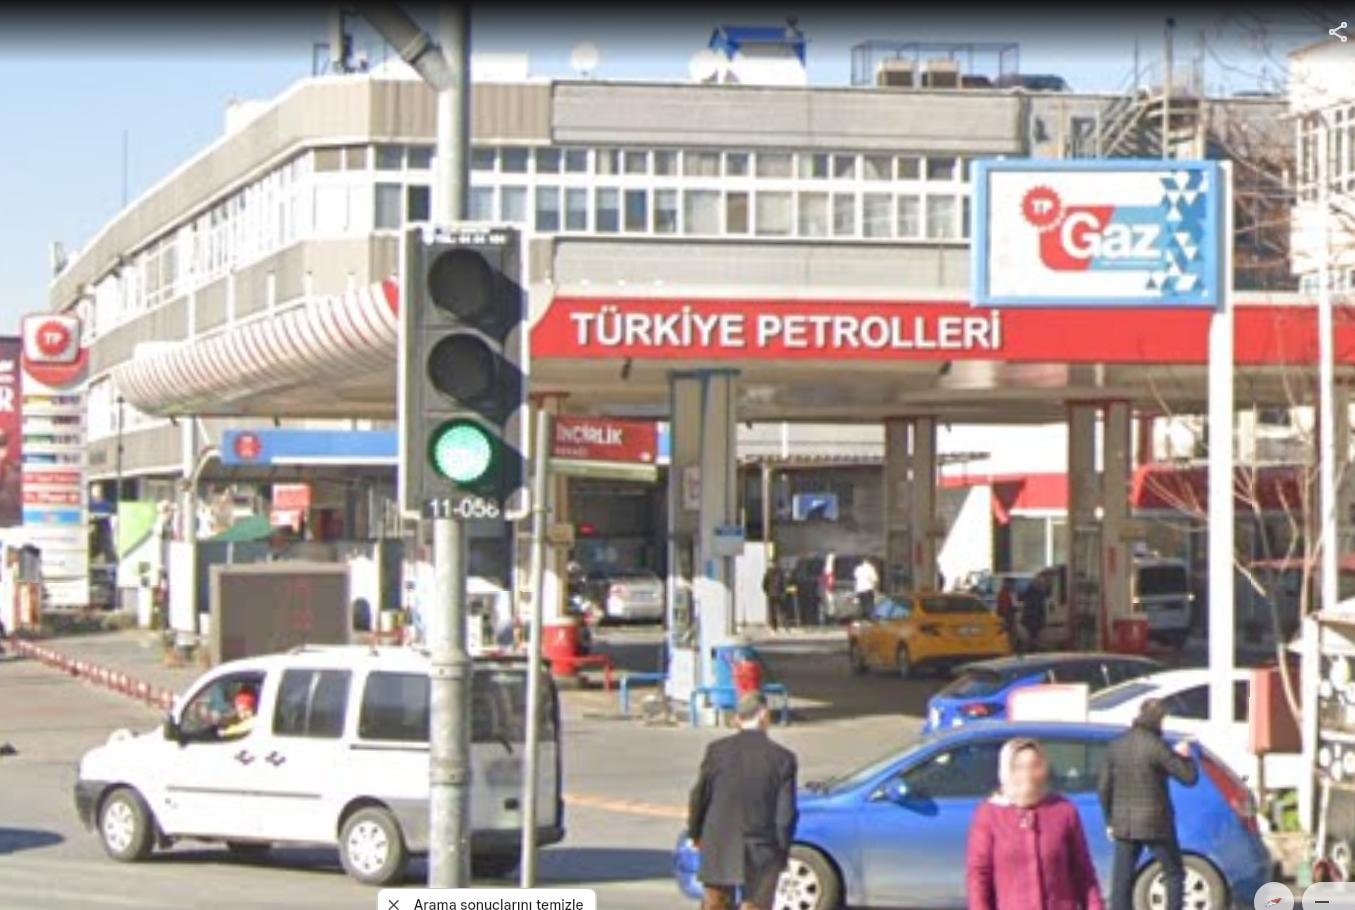greenlight: (410, 240, 500, 483)
